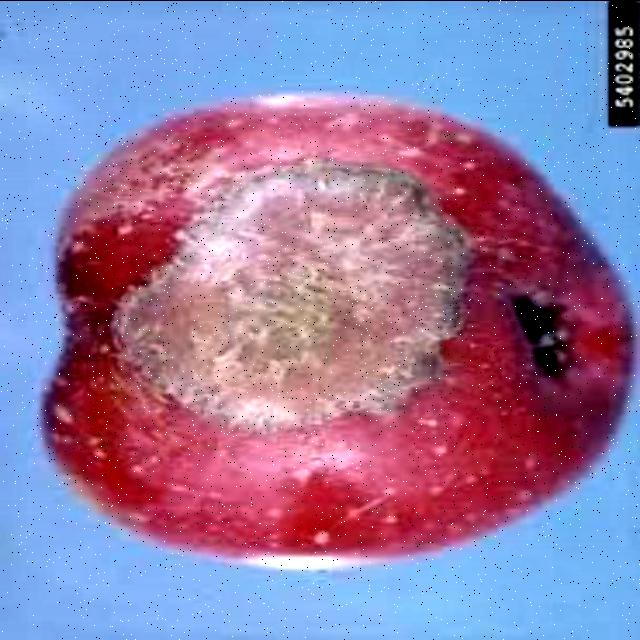ROT: (36, 99, 568, 566)
